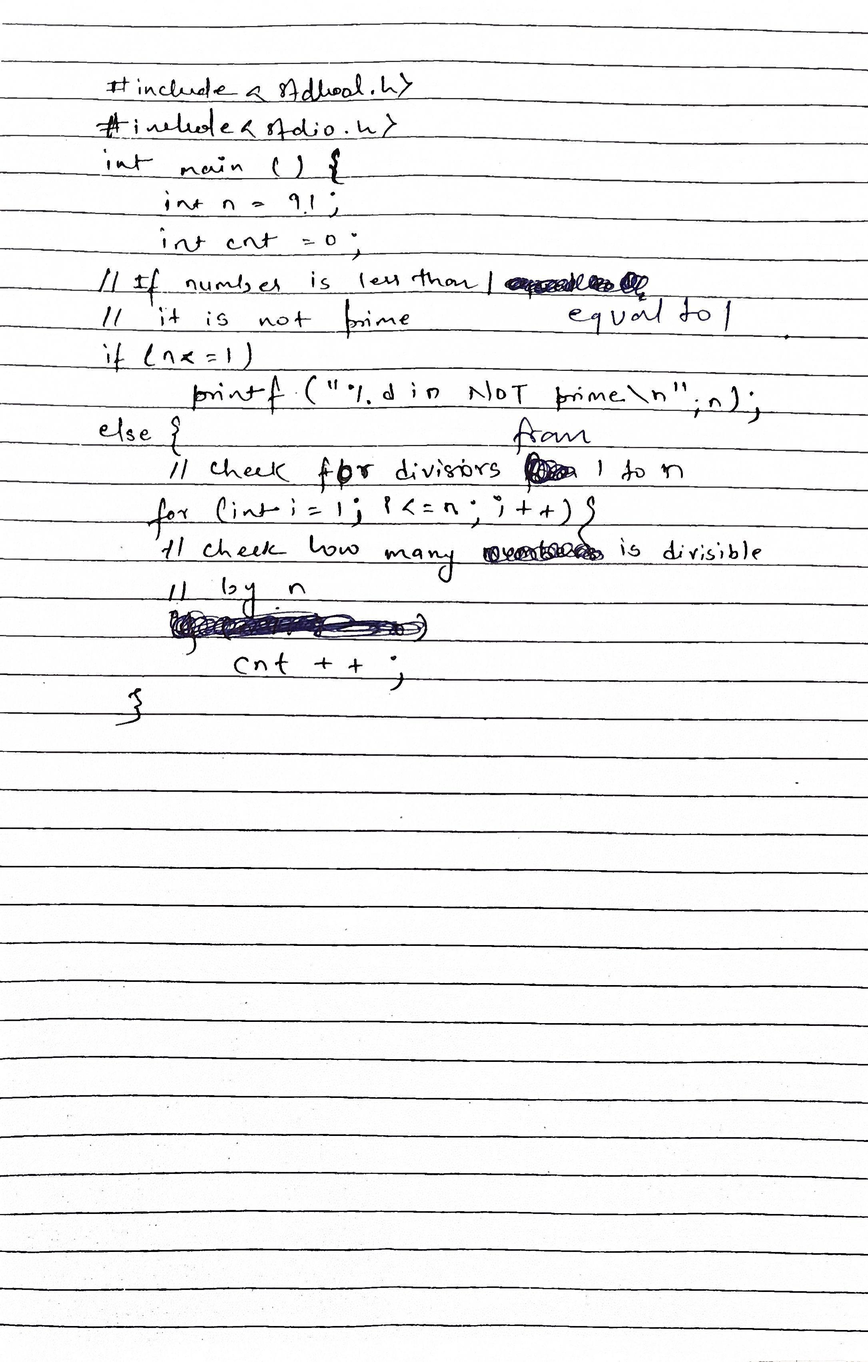cuttings: (163, 605, 430, 659), (501, 271, 652, 304), (479, 540, 604, 564), (522, 450, 580, 496)
